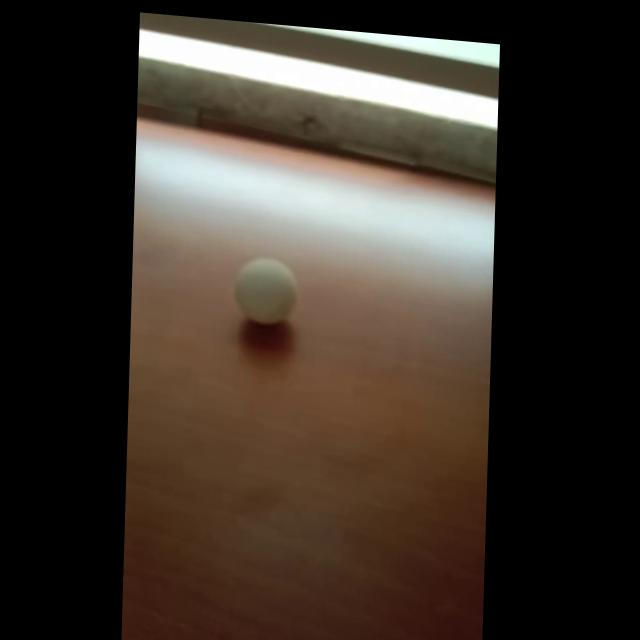white ball: (233, 253, 299, 328)
